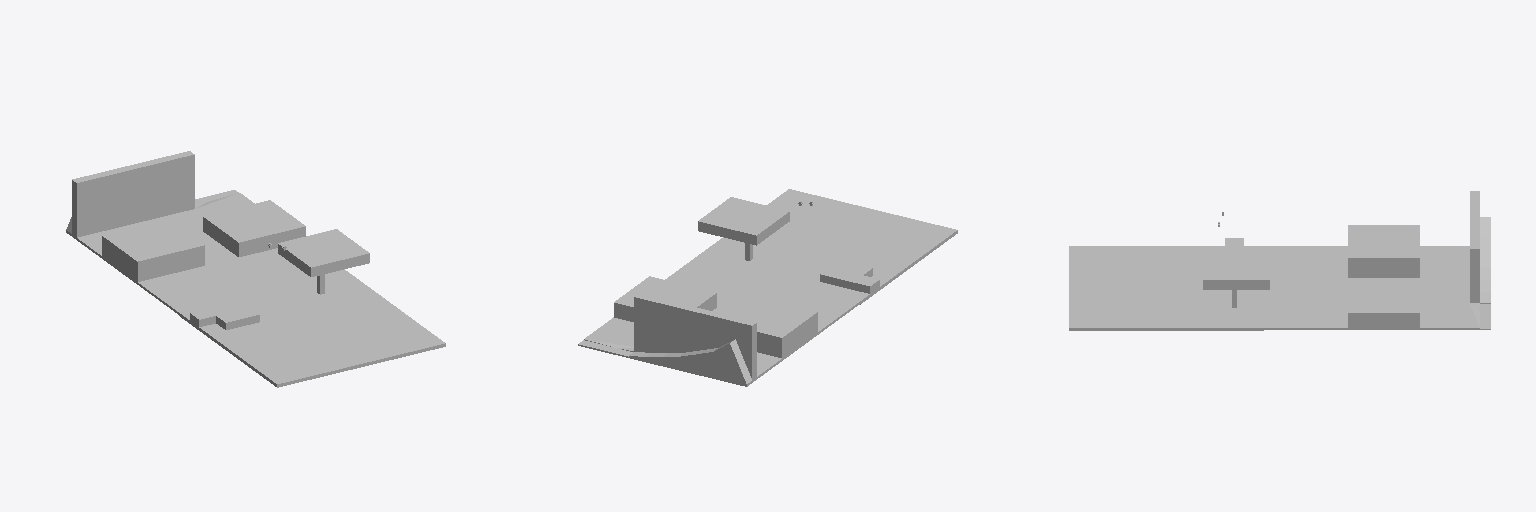
Rendered from test_topo8.obj.
3 renders of one model, left to right at view 1: azimuth 30°, elevation 25°; view 2: azimuth 150°, elevation 25°; view 3: azimuth 270°, elevation 25°, orthographic.
Parts seen in each view (by area): view 1: Terrain; view 2: Terrain; view 3: Terrain.
Part boxes in pixels (x1,y1,x2,y2): Terrain: (66,151,445,387); Terrain: (578,189,957,386); Terrain: (1069,191,1490,330).
Bounding box in the file's own units: 42.15 × 17.62 × 91.37.